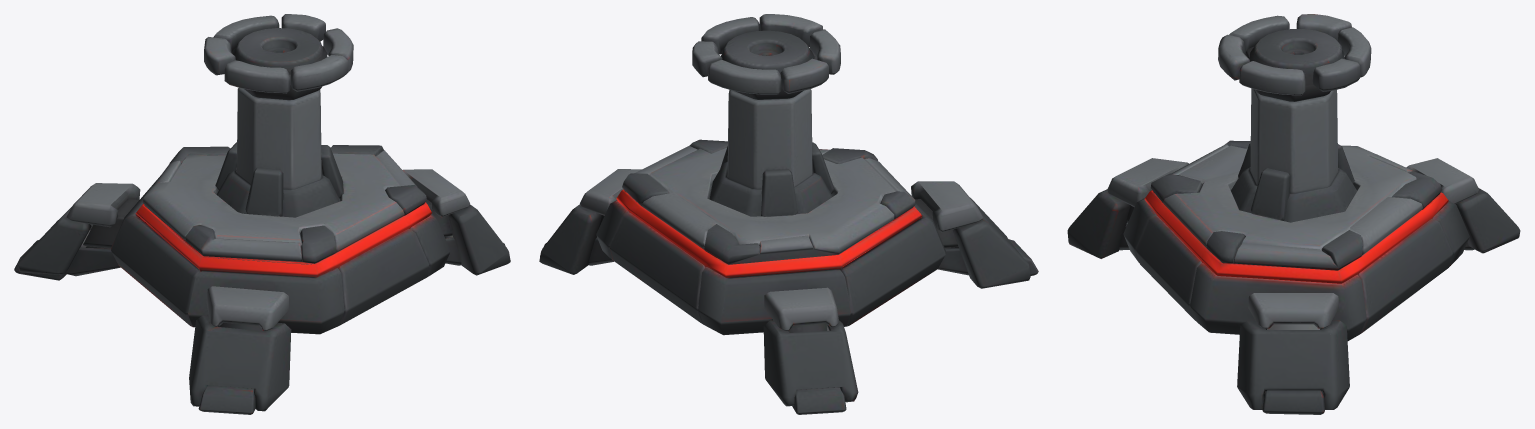
Rendered from turret-base.glb.
3 views of the same model, side by side, from view 1: azimuth 30°, elevation 25°; view 2: azimuth 150°, elevation 25°; view 3: azimuth 270°, elevation 25° (orthographic). The views are drawn at different scales.
Parts seen in each view (by area): view 1: tripo_node_b228a17a-e7e2-4c63-b2bc-1164cc0a12d0; view 2: tripo_node_b228a17a-e7e2-4c63-b2bc-1164cc0a12d0; view 3: tripo_node_b228a17a-e7e2-4c63-b2bc-1164cc0a12d0.
Part boxes in pixels (x1,y1,x2,y2): tripo_node_b228a17a-e7e2-4c63-b2bc-1164cc0a12d0: [14, 14, 510, 414]; tripo_node_b228a17a-e7e2-4c63-b2bc-1164cc0a12d0: [539, 14, 1038, 414]; tripo_node_b228a17a-e7e2-4c63-b2bc-1164cc0a12d0: [1067, 14, 1520, 414].
Bounding box in the file's own units: 0.9995 × 0.6362 × 0.978.
Materials: 1 (1 with a texture image).
